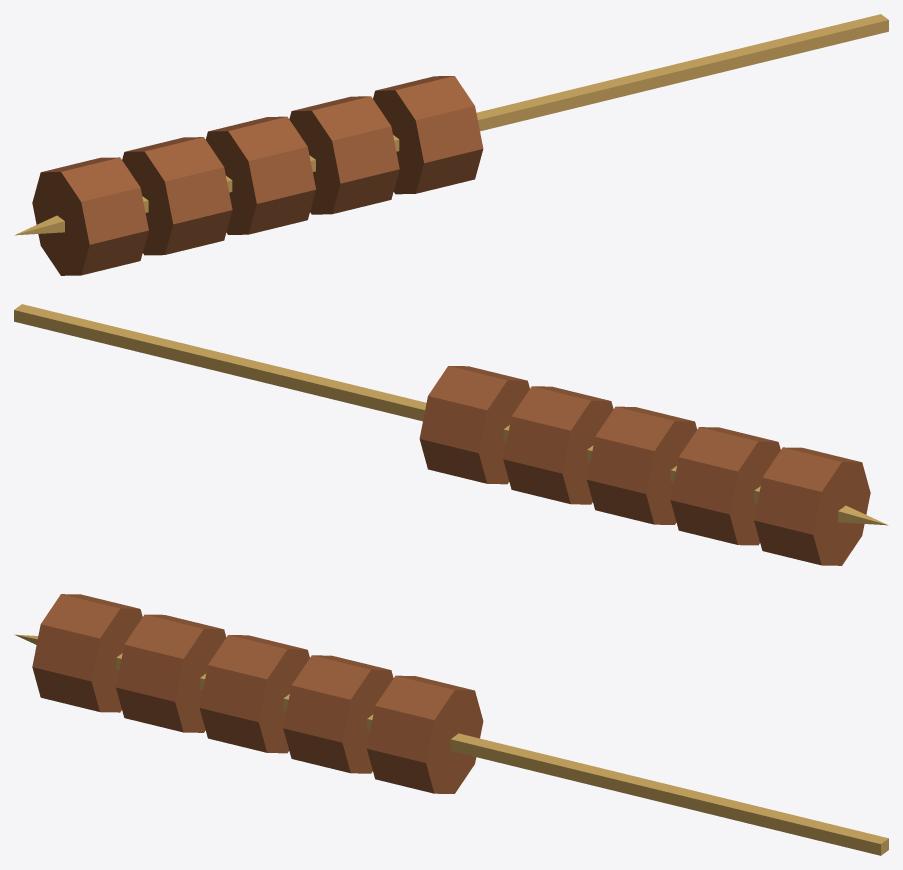
File: SM_Cook_SkewerSatay_Grilled_01.fbx
3 views of the same model, one above another, from view 1: azimuth 30°, elevation 25°; view 2: azimuth 150°, elevation 25°; view 3: azimuth 330°, elevation 25° (orthographic).
Parts seen in each view (by area): view 1: SM_Cook_SkewerSatay_Grilled_01; view 2: SM_Cook_SkewerSatay_Grilled_01; view 3: SM_Cook_SkewerSatay_Grilled_01.
Boxes of the visible parts, bbox=[...] form: SM_Cook_SkewerSatay_Grilled_01: bbox=[14, 14, 888, 275]; SM_Cook_SkewerSatay_Grilled_01: bbox=[14, 304, 888, 565]; SM_Cook_SkewerSatay_Grilled_01: bbox=[14, 594, 888, 855].
Size of the model in its own units: 0.25 by 0.0285 by 0.0285.
1 material, 1 textured.
